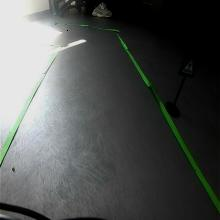crosswalk: (178, 54, 200, 78)
